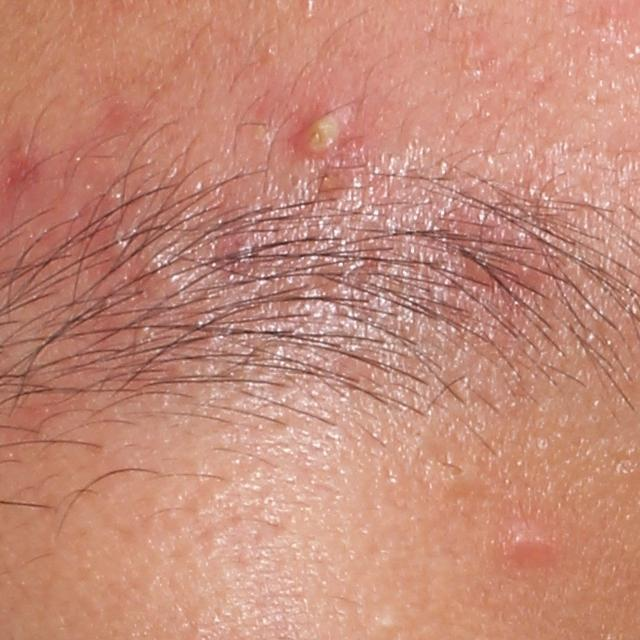pustule: (290, 116, 347, 159)
